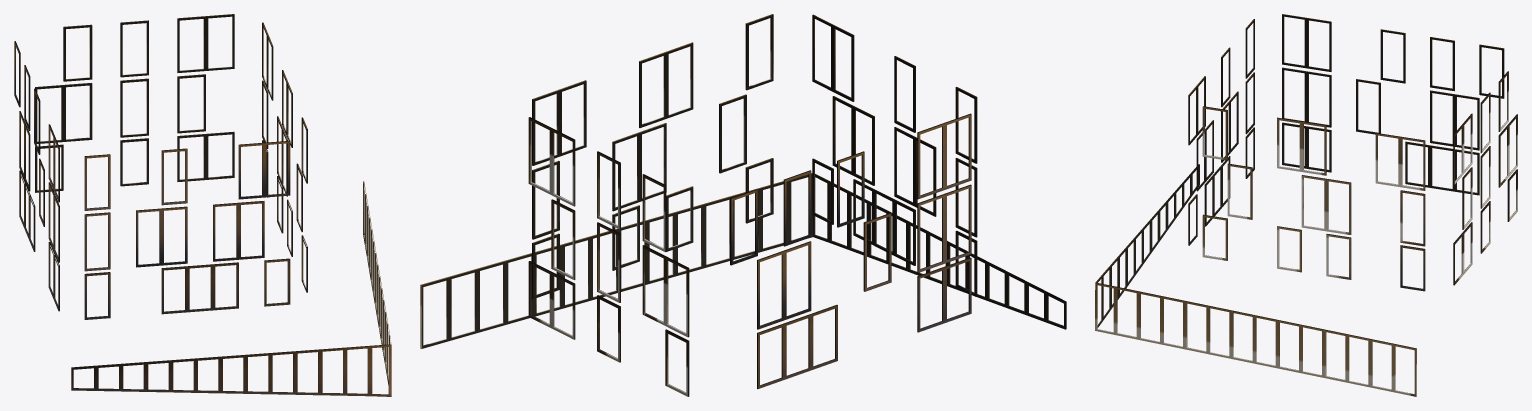
File: Building_01_Frame.fbx
3 renders of one model, left to right at view 1: azimuth 30°, elevation 25°; view 2: azimuth 150°, elevation 25°; view 3: azimuth 270°, elevation 25°, orthographic. The views are drawn at different scales.
Parts seen in each view (by area): view 1: Building_01_Frame; view 2: Building_01_Frame; view 3: Building_01_Frame.
Part boxes in pixels (x1,y1,x2,y2): Building_01_Frame: [14, 14, 391, 396]; Building_01_Frame: [420, 14, 1066, 396]; Building_01_Frame: [1095, 14, 1517, 396].
Size of the model in its own units: 21.83 by 11.73 by 21.12.
1 material, 1 textured.
